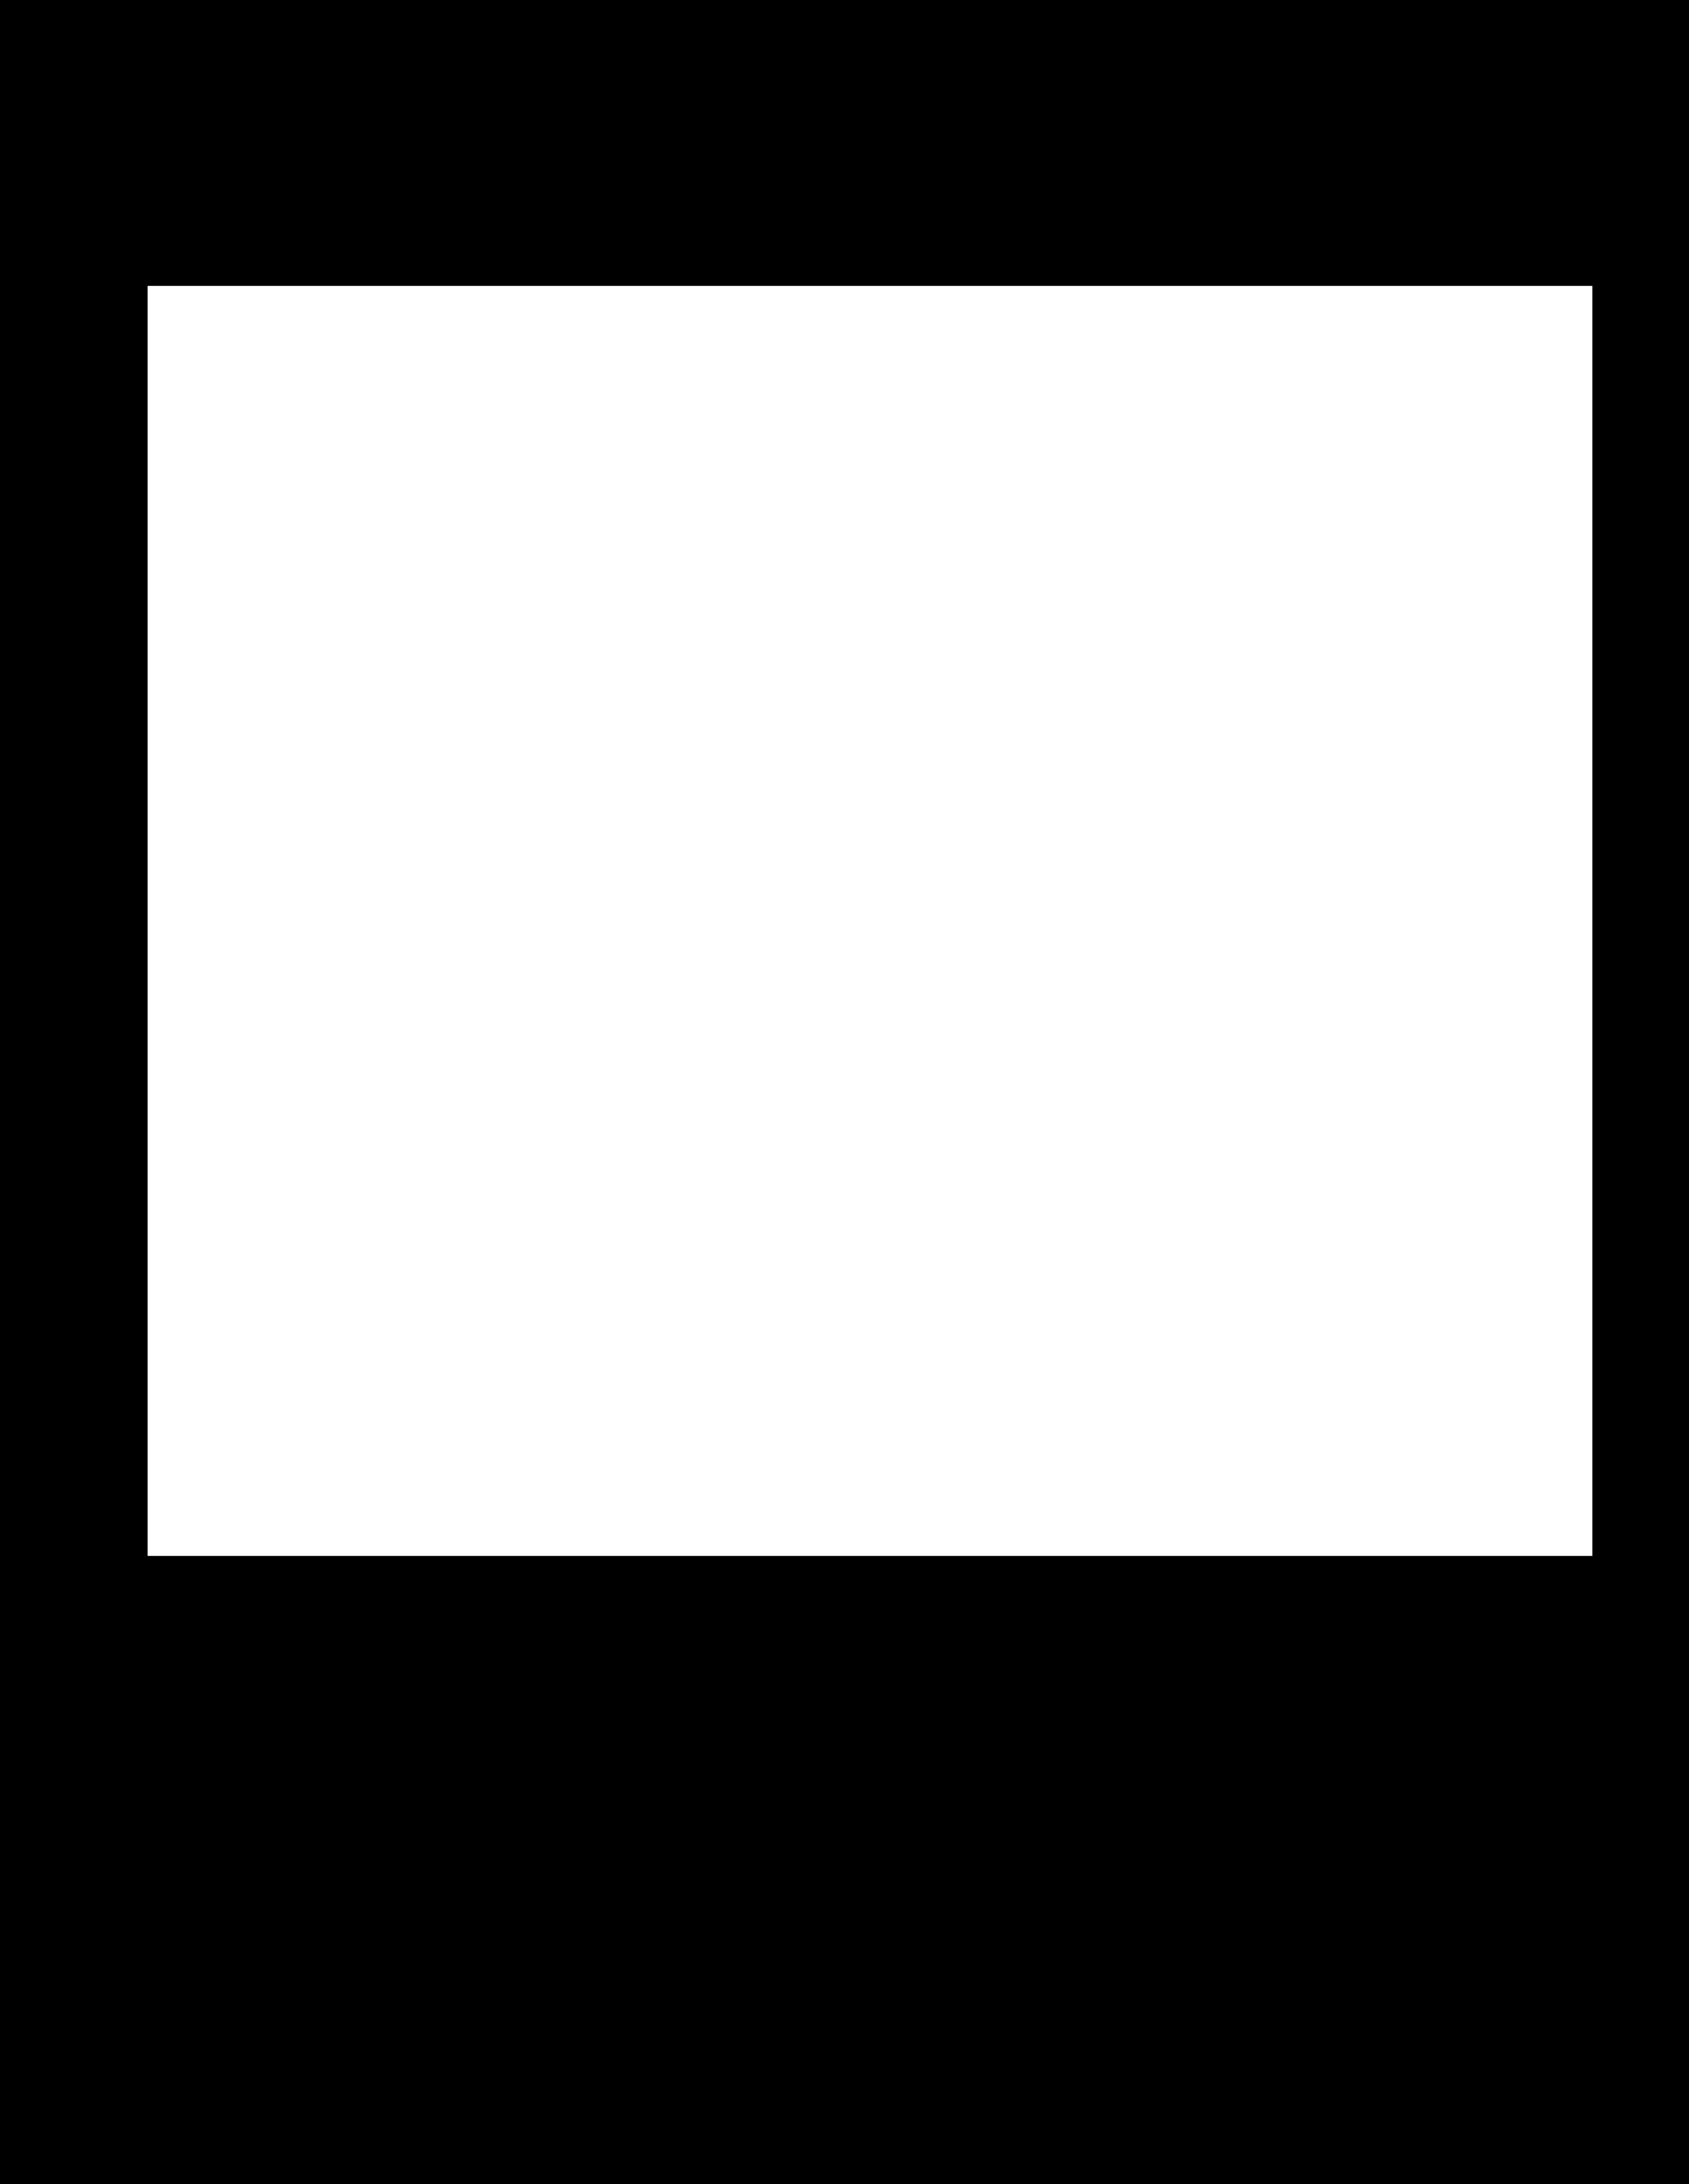table: (147, 285, 1592, 1555)
